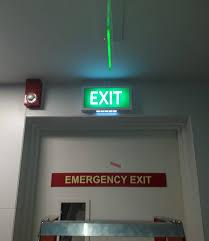exit: (34, 120, 203, 240)
lit_exit_sign: (83, 87, 130, 108)
